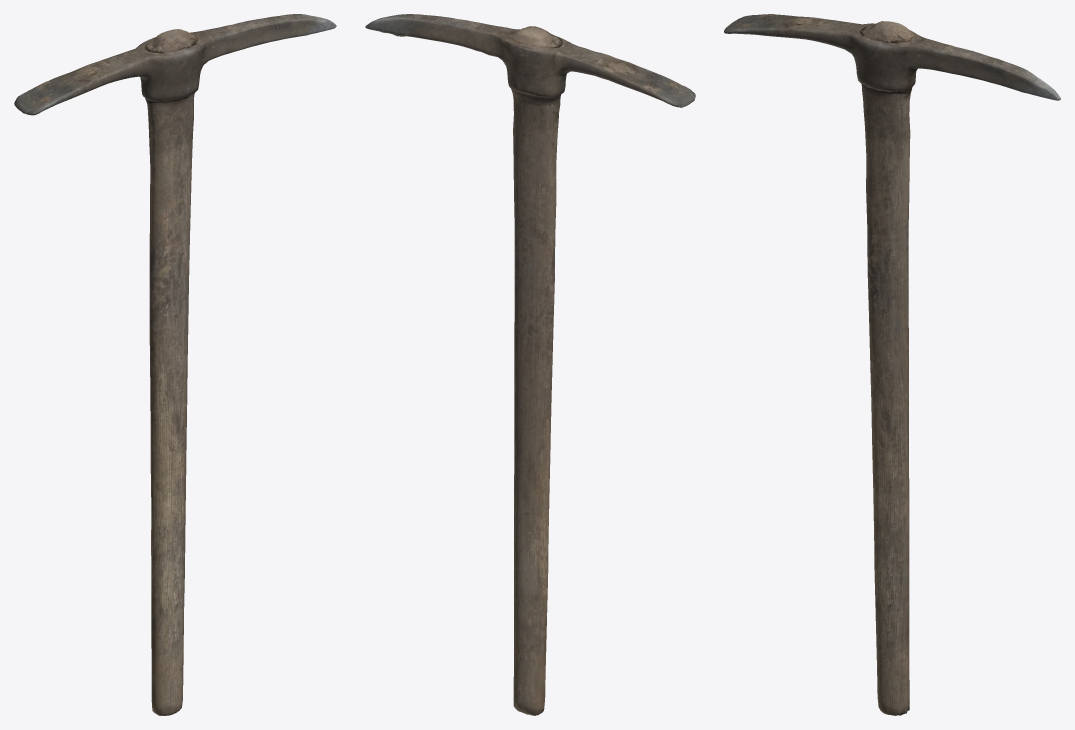
File: picke_dirty_01.glb
3 views of the same model, side by side, from view 1: azimuth 30°, elevation 25°; view 2: azimuth 150°, elevation 25°; view 3: azimuth 330°, elevation 25° (orthographic).
Visible parts, largest first — view 1: picke_dirty_01; view 2: picke_dirty_01; view 3: picke_dirty_01.
Part boxes in pixels (bbox=[...]): picke_dirty_01: bbox=[14, 14, 336, 715]; picke_dirty_01: bbox=[365, 14, 695, 715]; picke_dirty_01: bbox=[724, 14, 1060, 715].
Bounding box in the file's own units: 0.5498 × 1.12 × 0.0691.
Materials: 1 (1 with a texture image).
